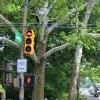traffic lights: (23, 28, 35, 57), (25, 74, 36, 86)
